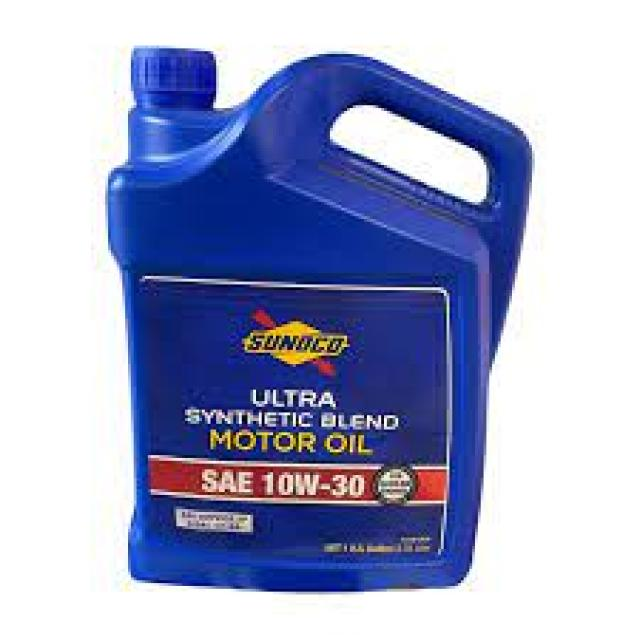motor_oil: (98, 41, 540, 601)
